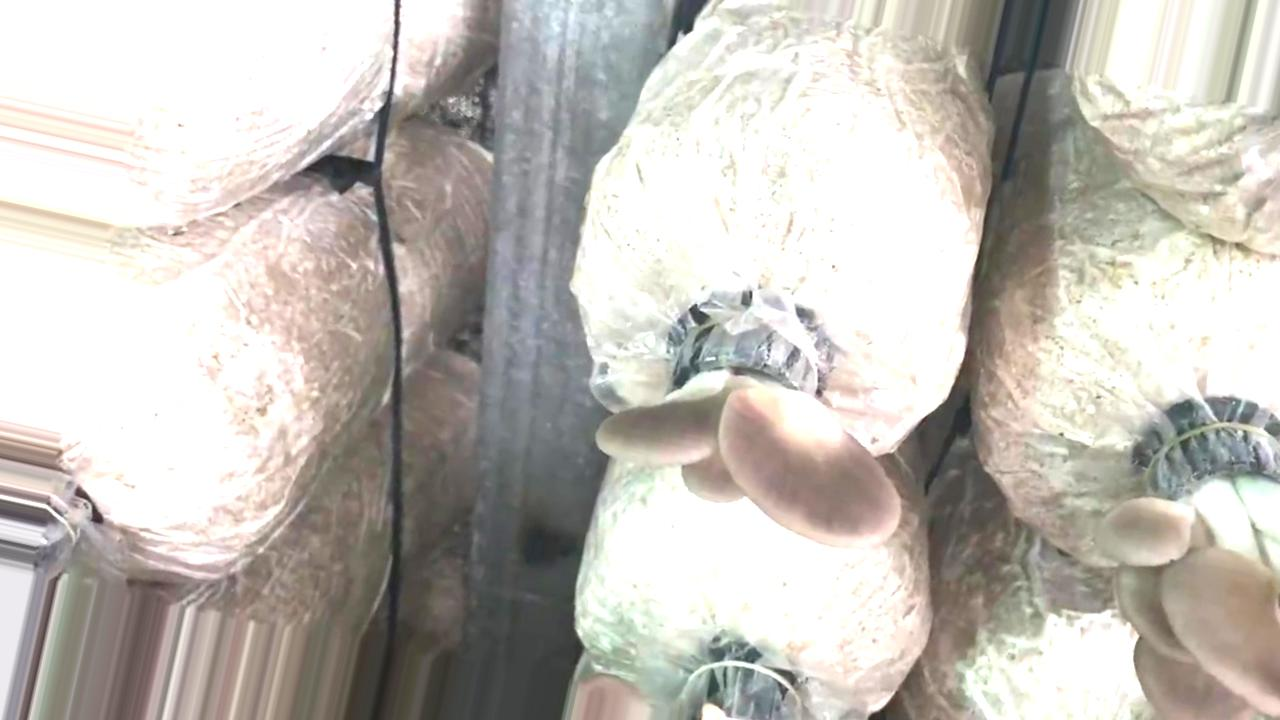nam: (592, 295, 906, 552), (1092, 396, 1280, 720)
